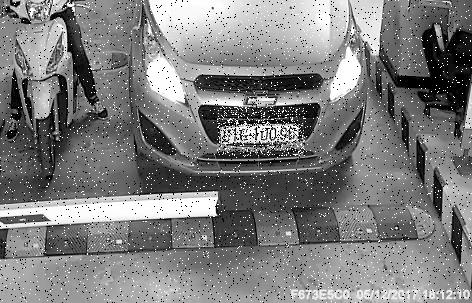License-plate: (219, 109, 307, 158)
